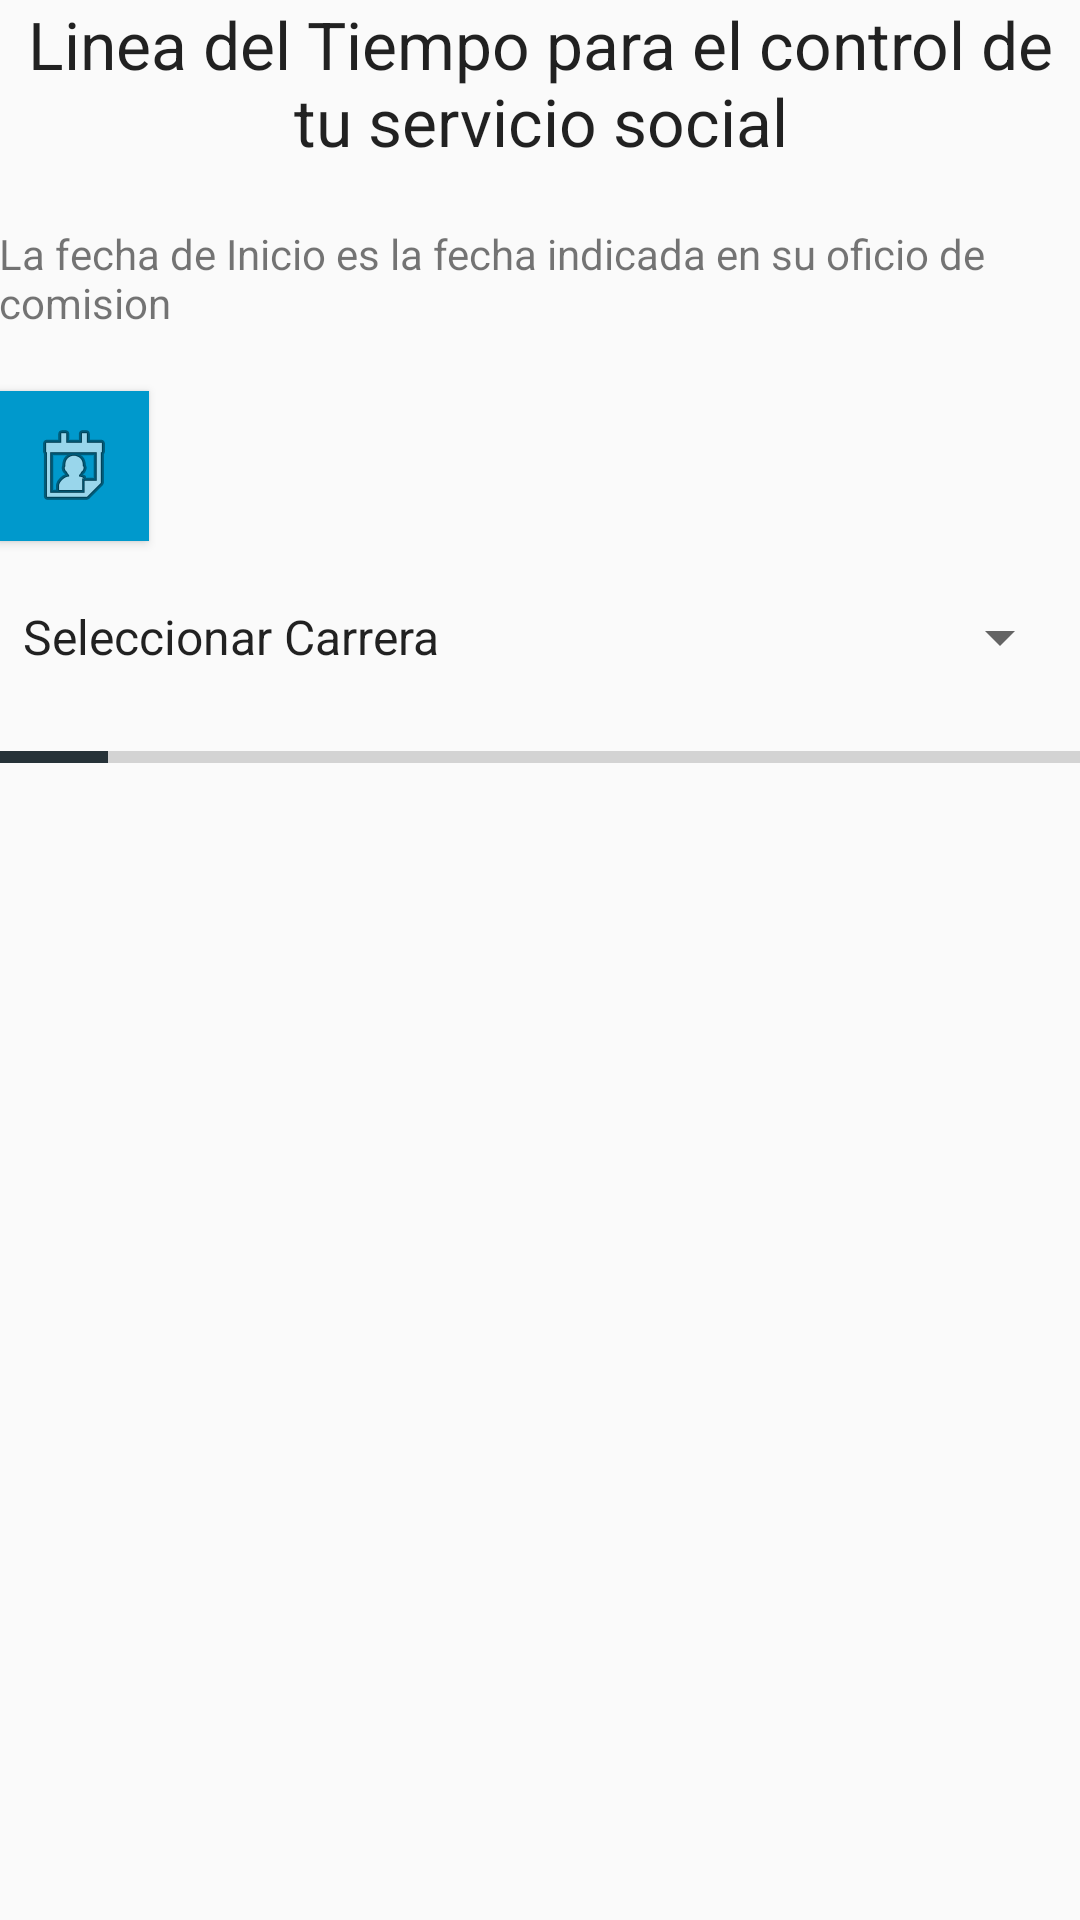

Icons on this 1080px×1920px Android screen, each with its box as rect(x1, y1, x2, y2):
calendar: rect(0, 391, 149, 541)
